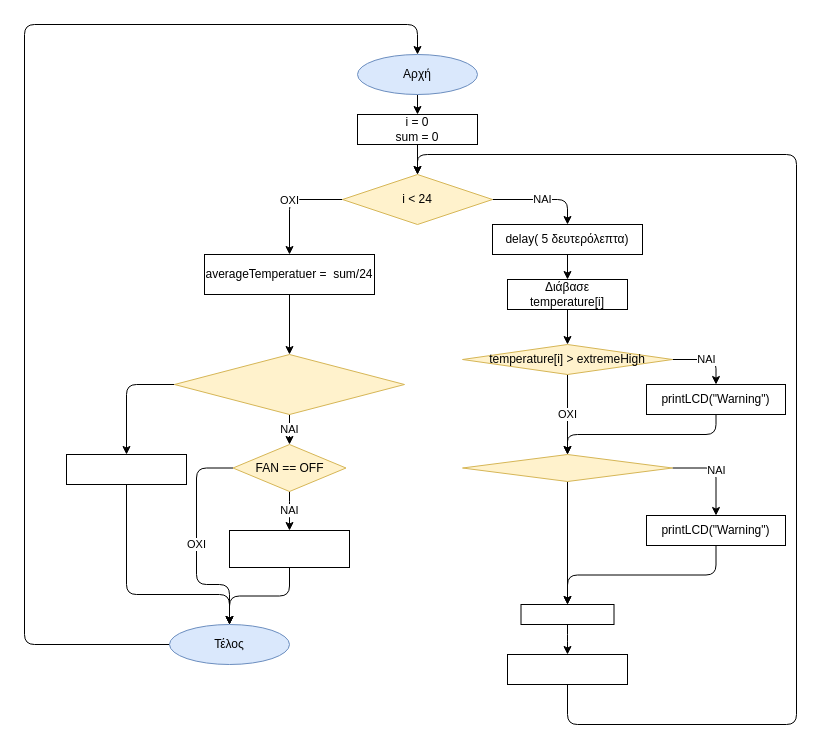
This 822x750 diagram has some shape labels left out. Here are the shapes that lost their labels. From the top down, the centre of each, then its label:
At point 289,384: "averageTemperature > extremeFan".
At point 126,469: "FAN = OFF".
At point 567,468: "temperature[i] > extremeLow".
At point 289,549: "FAN = ON send e-mail".
At point 567,614: "i = i +1".
At point 567,669: "sum = sum + temperature[i]".
